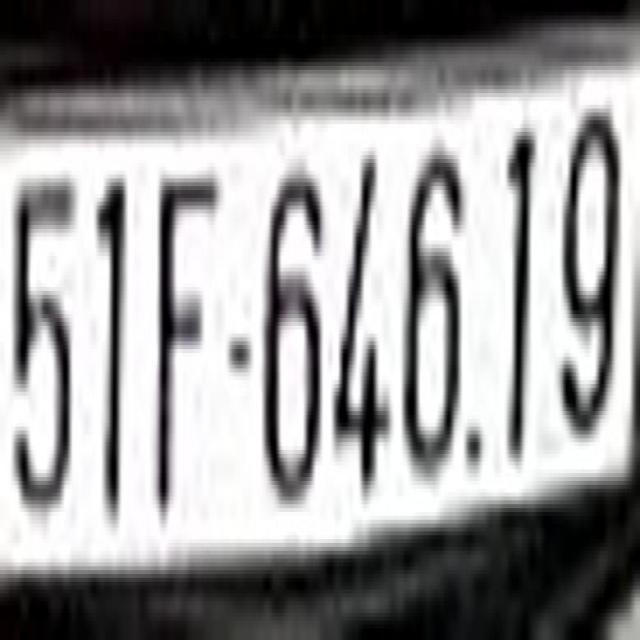1: (94, 151, 125, 524), (499, 120, 530, 466)
4: (332, 140, 392, 484)
5: (15, 171, 74, 504)
6: (260, 155, 324, 508), (402, 144, 464, 492)
9: (558, 85, 618, 450)
F: (155, 151, 218, 512)
